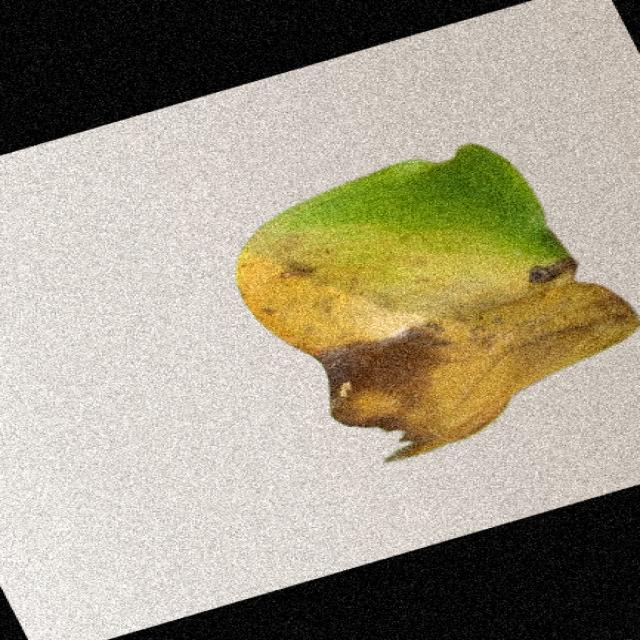daun berpenyakit kuning: (237, 145, 638, 459)
